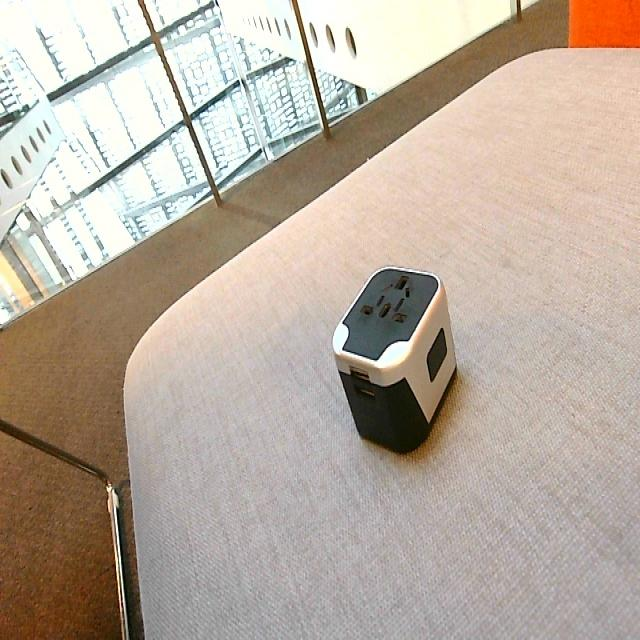adapter: (331, 263, 457, 453)
